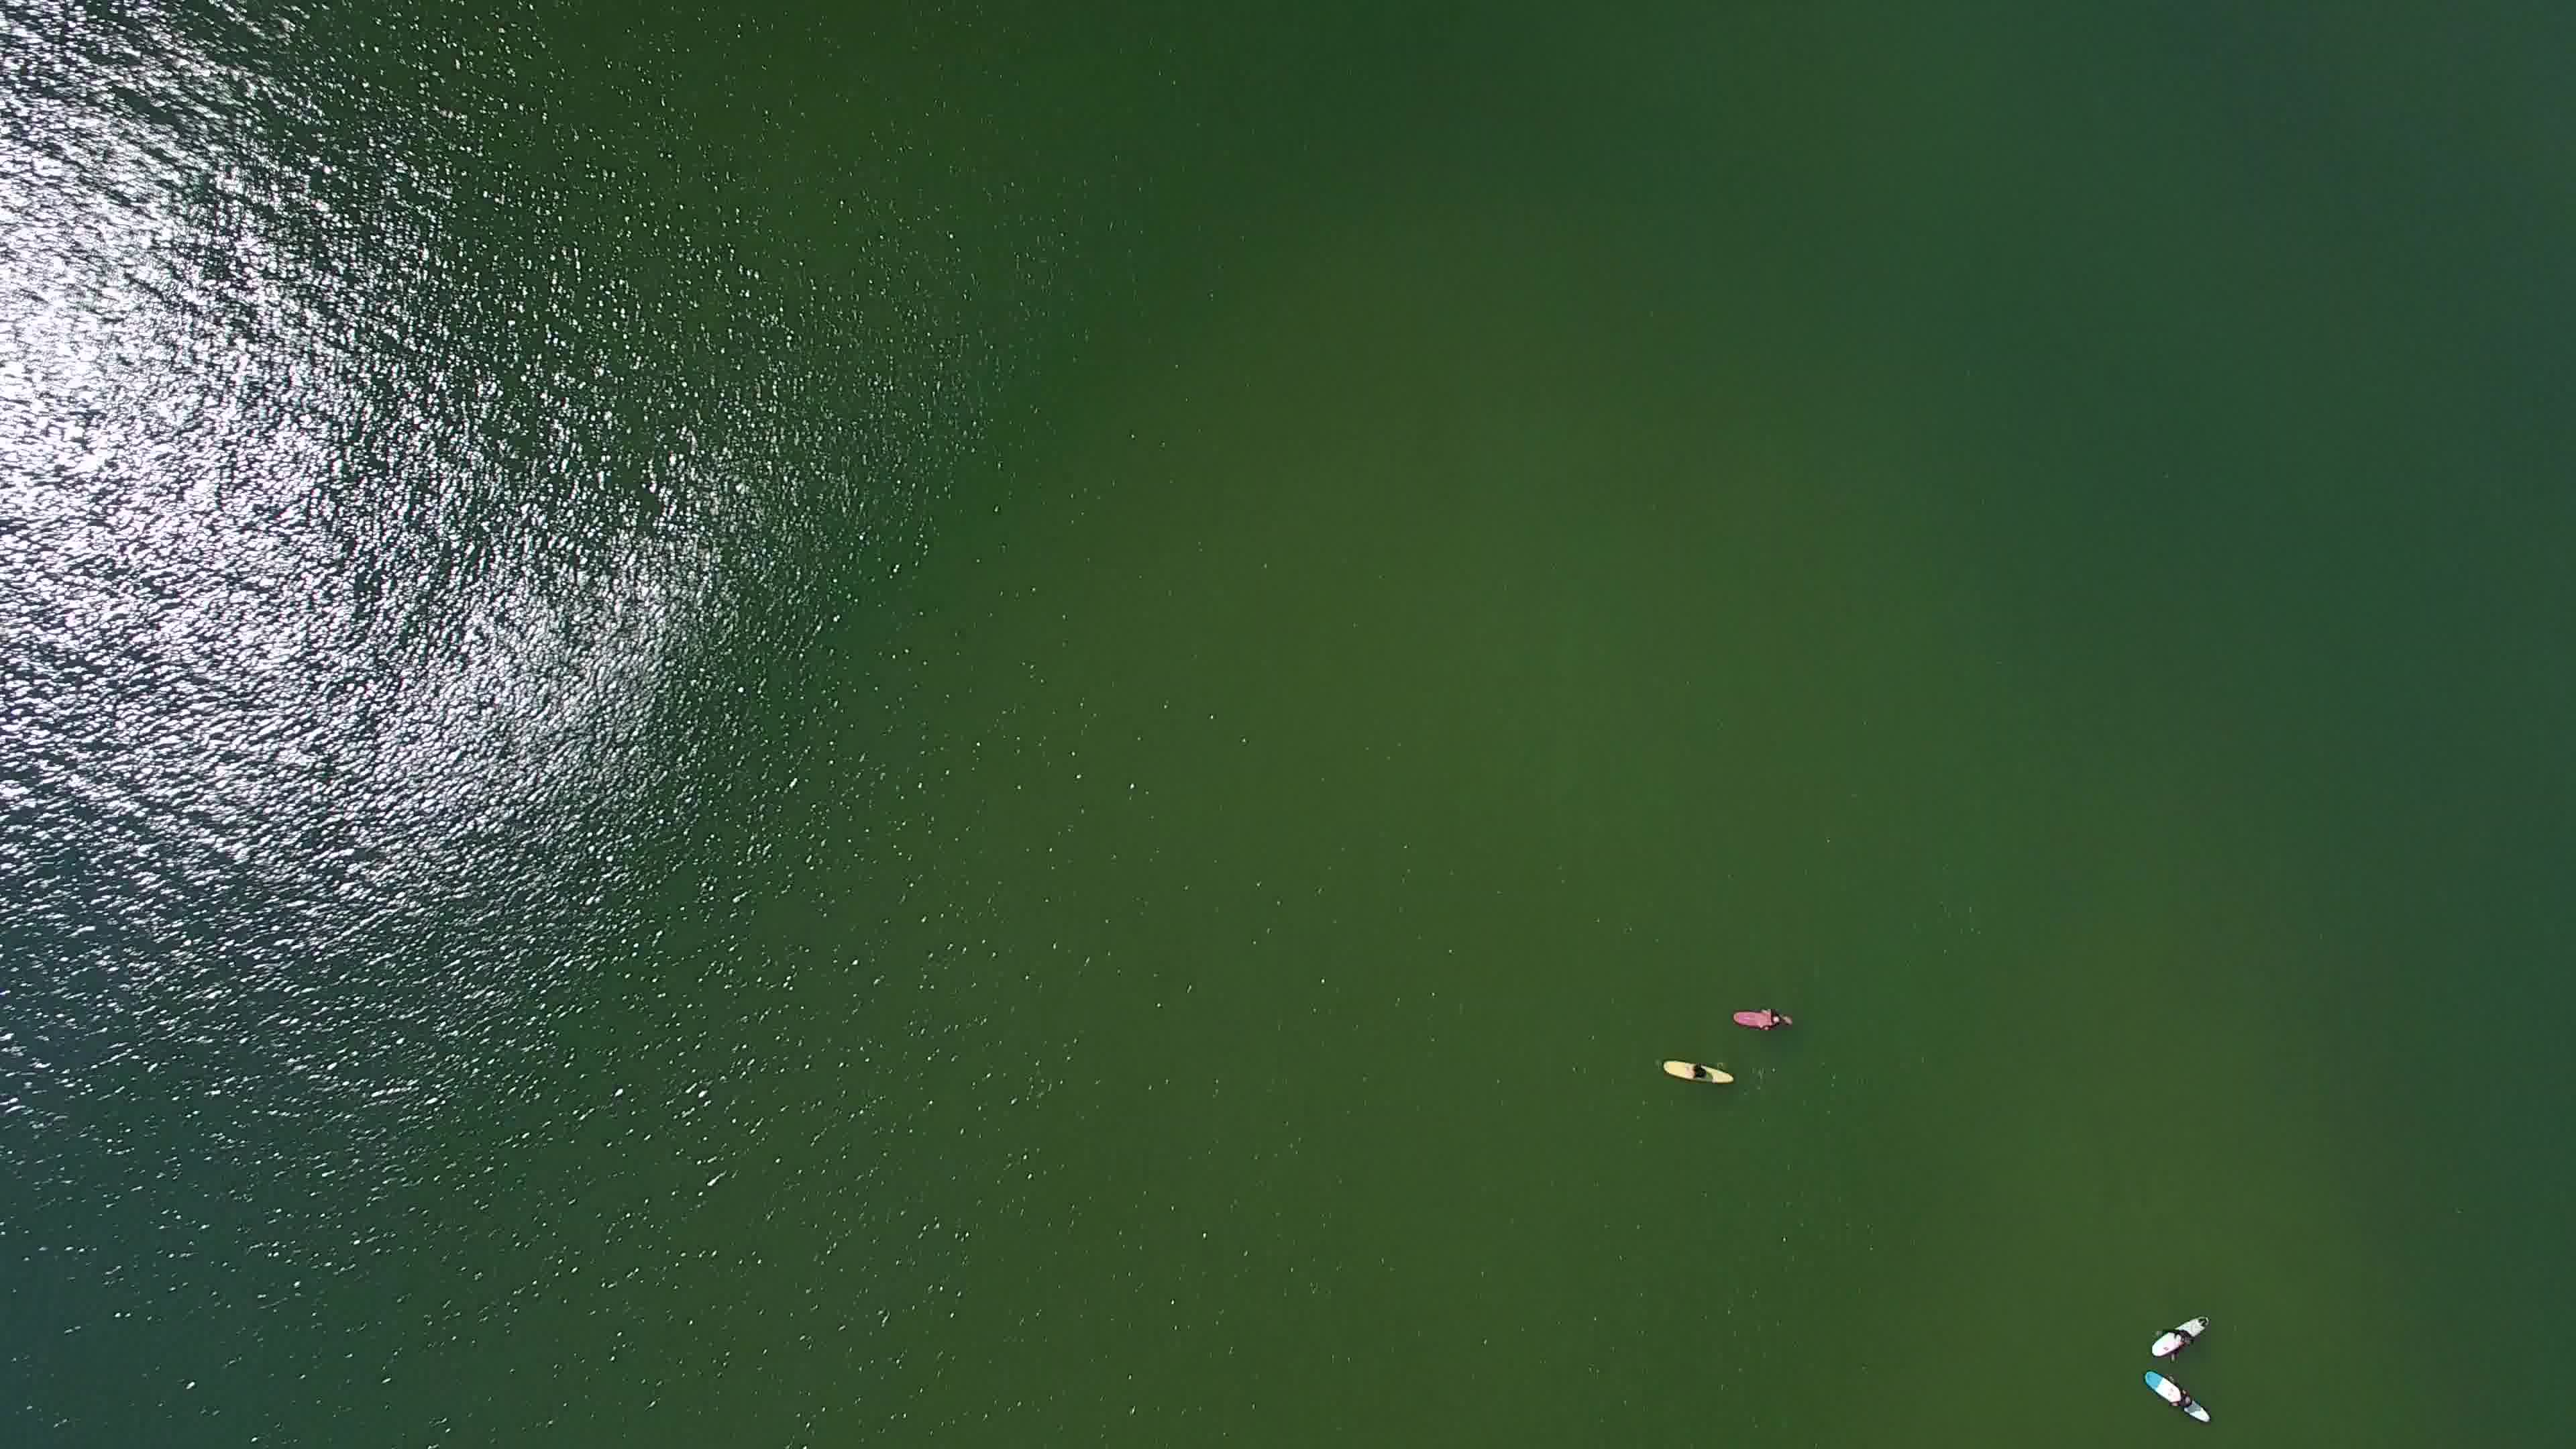surfer: (2141, 1364, 2236, 1430), (2143, 1302, 2220, 1359), (1654, 1053, 1739, 1092), (1729, 1001, 1808, 1035)
